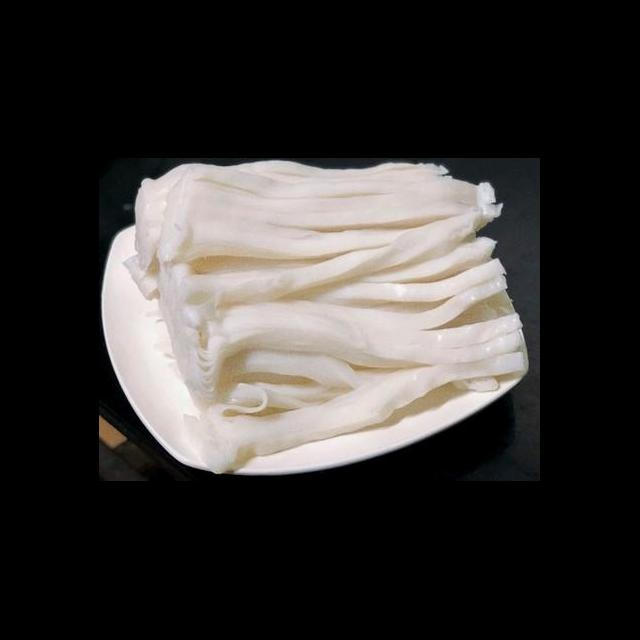banh pho: (117, 160, 530, 478)
